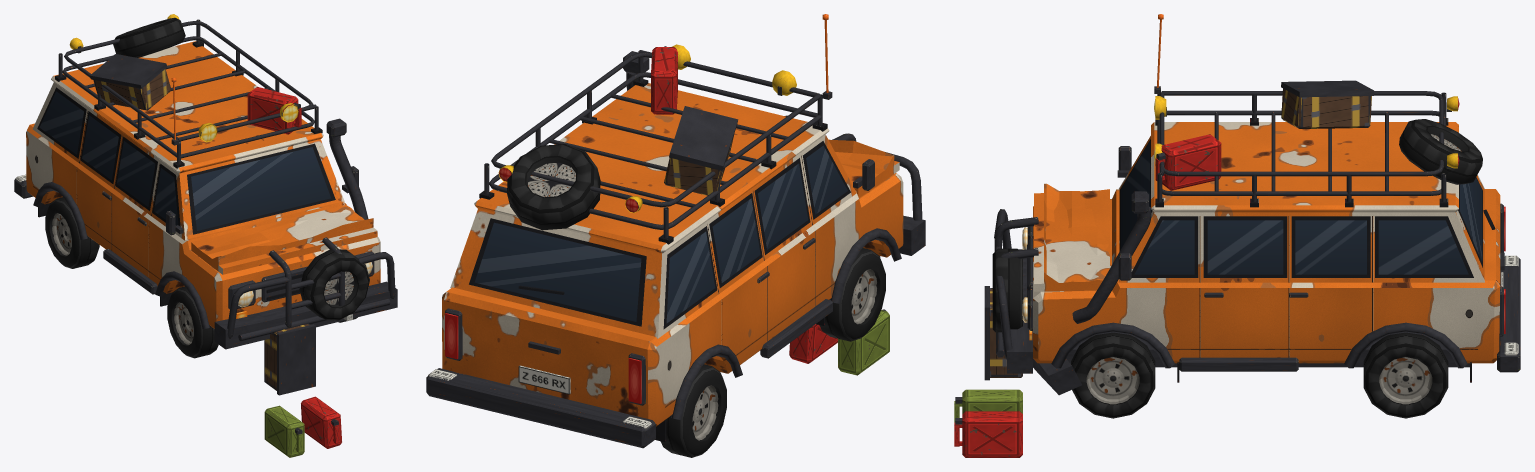
The model's file is Car_Player.fbx.
3 renders of one model, left to right at view 1: azimuth 30°, elevation 25°; view 2: azimuth 150°, elevation 25°; view 3: azimuth 270°, elevation 25°, orthographic. The views are drawn at different scales.
Visible parts, largest first — view 1: Body, DMG3_Cargo_Fallen, RoofRack, Hood, BullBar, Cargo_SpareTire, Cargo_Crate, DMG1_Hood_Dented, Wheel_RL, Wheel_FL, Bumper_Front, Cargo_Jerrycan_Green (+3 smaller); view 2: Body, DMG3_Cargo_Fallen, RoofRack, Wheel_RL, Wheel_FL, Cargo_Jerrycan_Green, DMG1_Hood_Dented, RoofLamps, Cargo_Jerrycan_Red, BullBar, Bumper_Front; view 3: Body, DMG3_Cargo_Fallen, RoofRack, Wheel_RR, Wheel_FR, Hood, DMG1_Hood_Dented, Cargo_Jerrycan_Red, BullBar, Cargo_SpareTire, Cargo_Jerrycan_Green, Cargo_Crate (+3 smaller).
Boxes of the visible parts, left/top/right/bottom form: Body: left=14, top=41, right=380, bottom=329; DMG3_Cargo_Fallen: left=90, top=17, right=301, bottom=134; RoofRack: left=55, top=19, right=322, bottom=168; Hood: left=192, top=205, right=377, bottom=274; BullBar: left=227, top=237, right=395, bottom=341; Cargo_SpareTire: left=299, top=249, right=369, bottom=320; Cargo_Crate: left=264, top=323, right=315, bottom=395; DMG1_Hood_Dented: left=191, top=205, right=373, bottom=267; Wheel_RL: left=45, top=197, right=99, bottom=268; Wheel_FL: left=167, top=286, right=218, bottom=358; Bumper_Front: left=214, top=281, right=397, bottom=349; Cargo_Jerrycan_Green: left=264, top=405, right=304, bottom=457; Body: left=426, top=51, right=903, bottom=448; DMG3_Cargo_Fallen: left=507, top=46, right=738, bottom=230; RoofRack: left=479, top=50, right=827, bottom=244; Wheel_RL: left=660, top=364, right=726, bottom=457; Wheel_FL: left=819, top=248, right=885, bottom=341; Cargo_Jerrycan_Green: left=838, top=309, right=889, bottom=375; DMG1_Hood_Dented: left=829, top=139, right=894, bottom=197; RoofLamps: left=498, top=44, right=796, bottom=213; Cargo_Jerrycan_Red: left=789, top=324, right=837, bottom=363; BullBar: left=832, top=133, right=922, bottom=220; Bumper_Front: left=899, top=222, right=925, bottom=255; Body: left=1022, top=122, right=1520, bottom=382; DMG3_Cargo_Fallen: left=1155, top=80, right=1482, bottom=190; RoofRack: left=1155, top=91, right=1448, bottom=207; Wheel_RR: left=1363, top=332, right=1448, bottom=418; Wheel_FR: left=1071, top=332, right=1155, bottom=418; Hood: left=1034, top=190, right=1109, bottom=291; DMG1_Hood_Dented: left=1044, top=183, right=1109, bottom=291; Cargo_Jerrycan_Red: left=954, top=411, right=1022, bottom=457; BullBar: left=994, top=209, right=1038, bottom=359; Cargo_SpareTire: left=992, top=248, right=1022, bottom=332; Cargo_Jerrycan_Green: left=954, top=389, right=1022, bottom=422; Cargo_Crate: left=984, top=286, right=1022, bottom=380.
Bounding box in the file's own units: 2.42 × 4.02 × 5.23.
2 materials, 2 textured.
